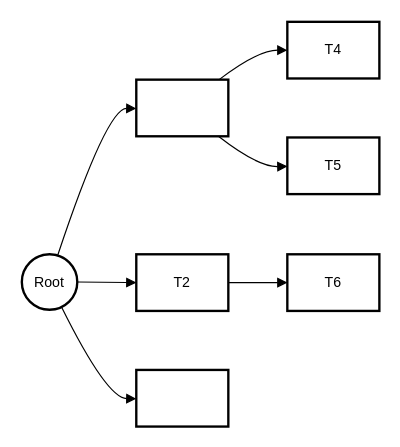
Image size: 400x447. Some labels were removed from this diagram. Each missing label, with the box of its shape:
T1: (135, 78, 229, 137)
T3: (135, 368, 229, 427)
